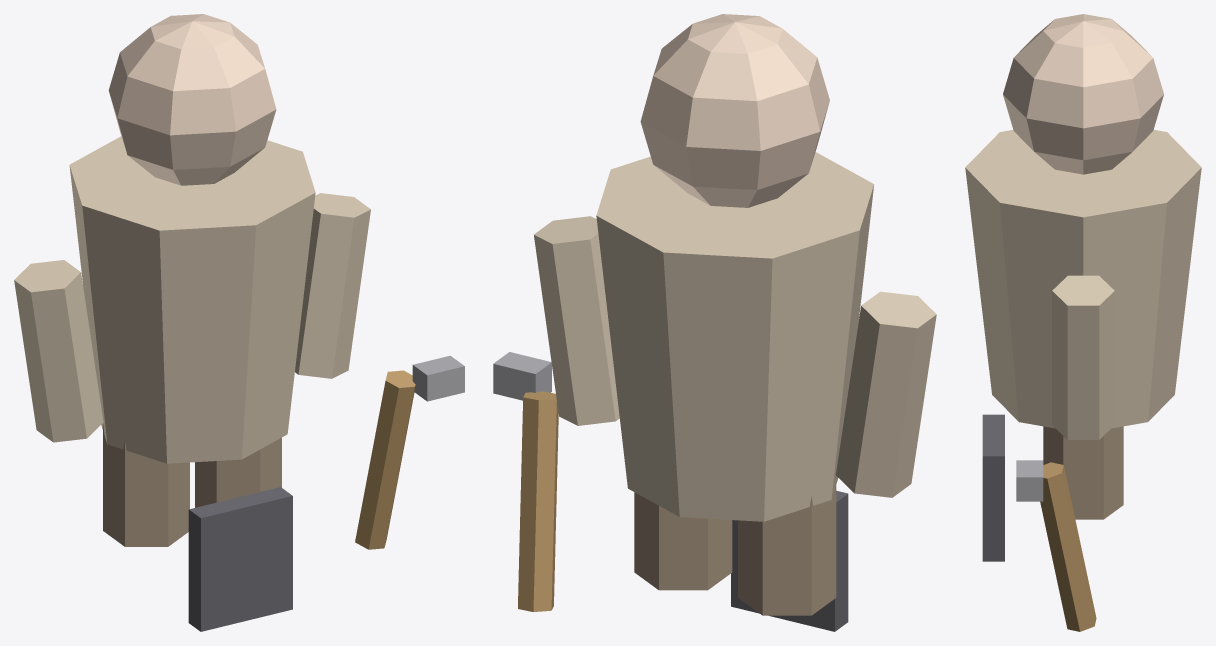
Rendered from blacksmith.glb.
The picture shows the model from 3 angles, left to right: view 1: azimuth 30°, elevation 25°; view 2: azimuth 150°, elevation 25°; view 3: azimuth 270°, elevation 25°; orthographic projection. The views are drawn at different scales.
Parts seen in each view (by area): view 1: blacksmith; view 2: blacksmith; view 3: blacksmith.
Boxes of the visible parts, x1=… form: blacksmith: x1=14, y1=14, x2=464, y2=631; blacksmith: x1=493, y1=14, x2=936, y2=631; blacksmith: x1=965, y1=14, x2=1201, y2=631.
Bounding box in the file's own units: 0.4859 × 0.6466 × 0.264.
